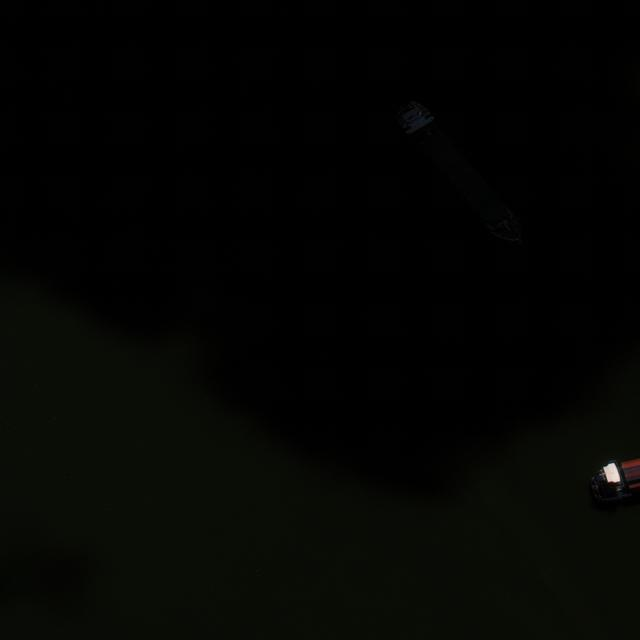Container Ship: (390, 87, 524, 253), (586, 457, 640, 504)
